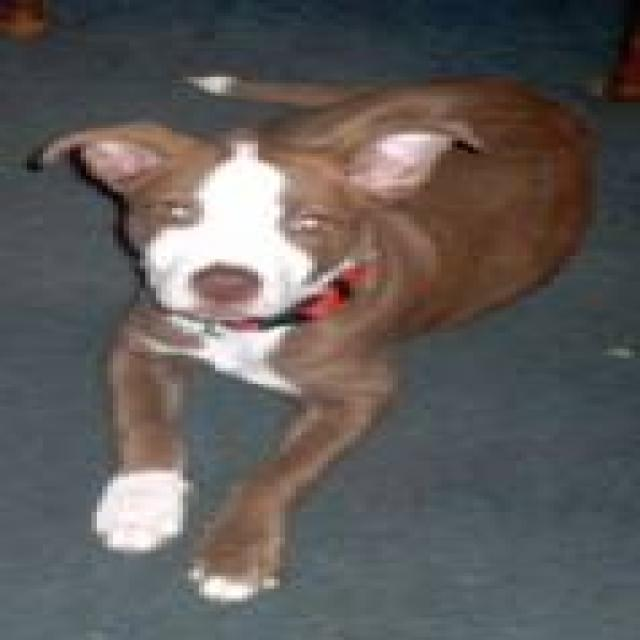dog-american_pit_bull_terrier: (16, 70, 586, 608)
